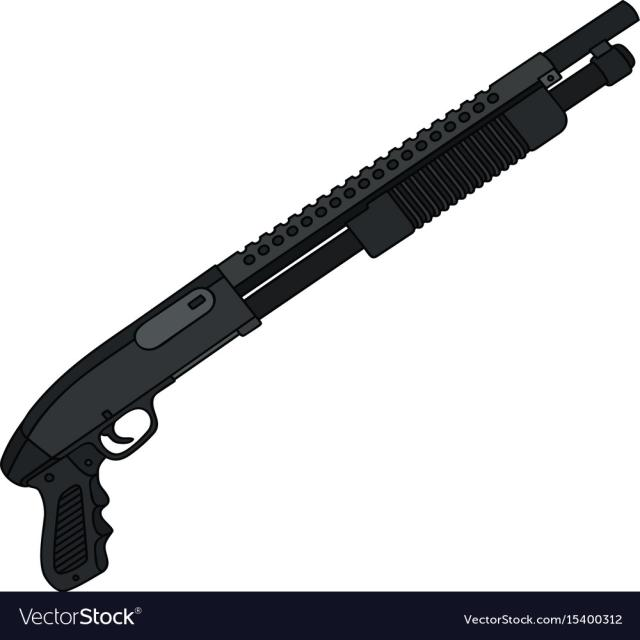ShotGun: (0, 0, 640, 593)
